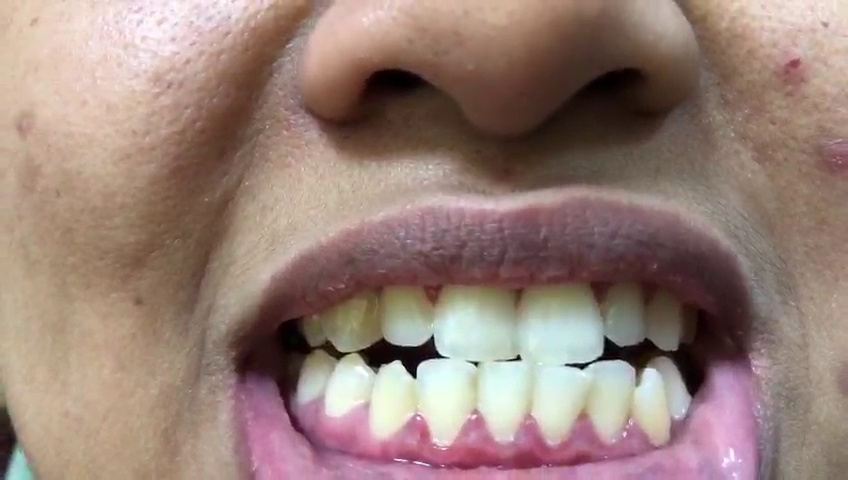1st Premolar: (321, 352, 374, 419), (650, 352, 690, 422)
2nd Premolar: (298, 351, 333, 405)
Canine: (322, 276, 378, 353), (368, 357, 418, 440), (635, 365, 673, 445), (647, 277, 683, 354)
Central Incisor: (433, 268, 521, 362), (519, 272, 604, 363), (529, 362, 587, 451), (476, 359, 531, 445)
Lateral Incisor: (418, 359, 474, 451), (583, 361, 633, 448), (380, 274, 433, 346), (602, 274, 644, 348)
